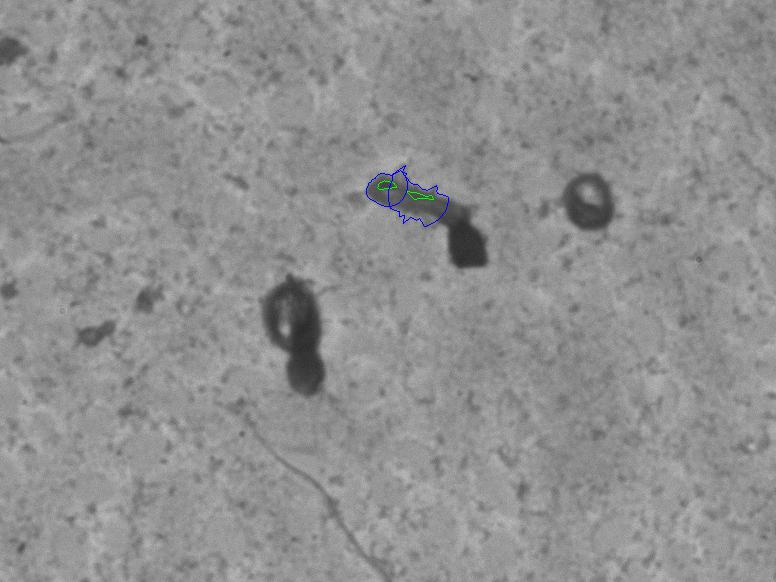Abnormal: (246, 265, 344, 410)
